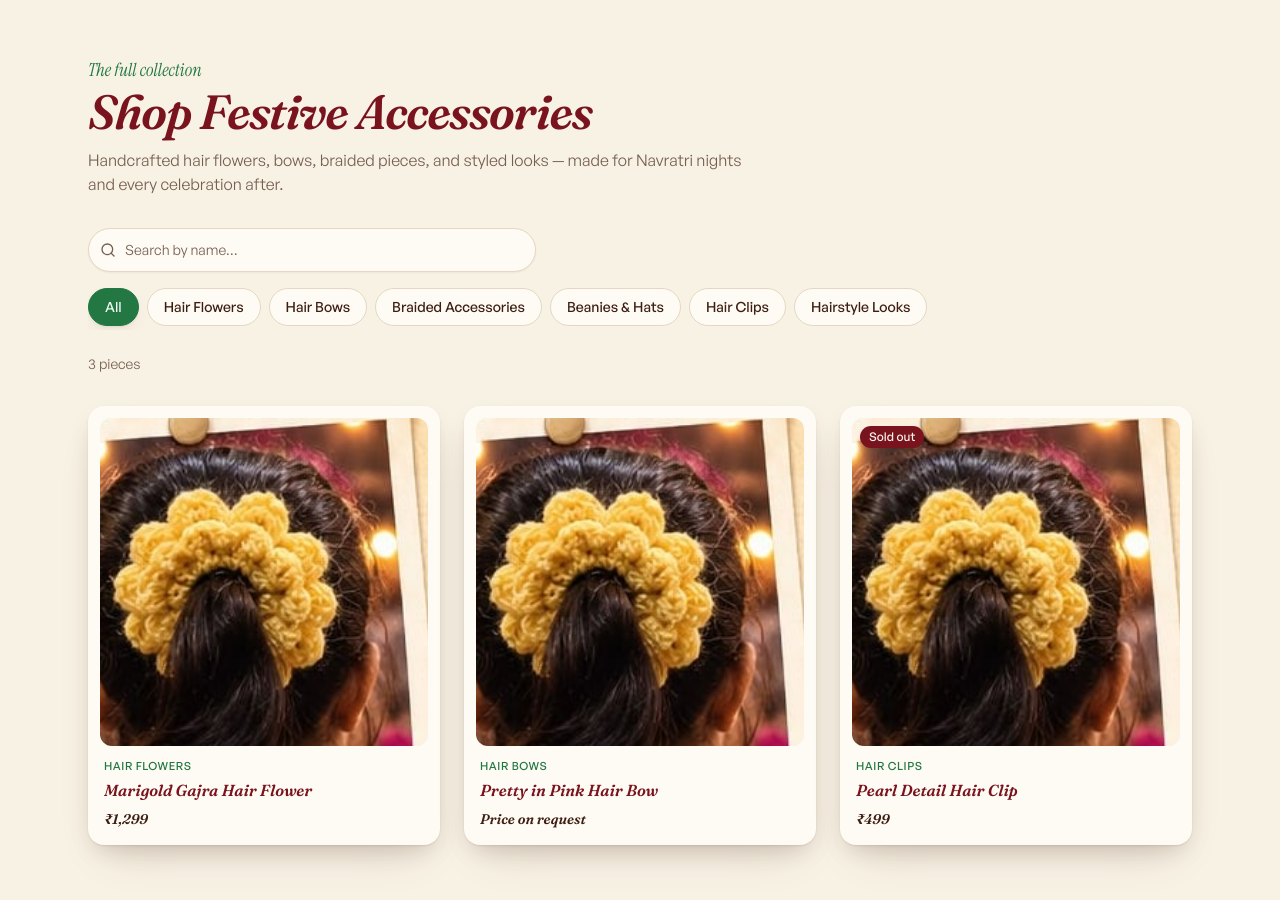
Scenario: ShopPage › filters the grid by search term and writes it to the URL
Check: the heading "Marigold Gajra Hair Flower" is shown, box [104,780,312,800]
Type "pearl" into the search field named "Search products by name".
click(312, 250); type("pearl")  # box [88,228,536,272]
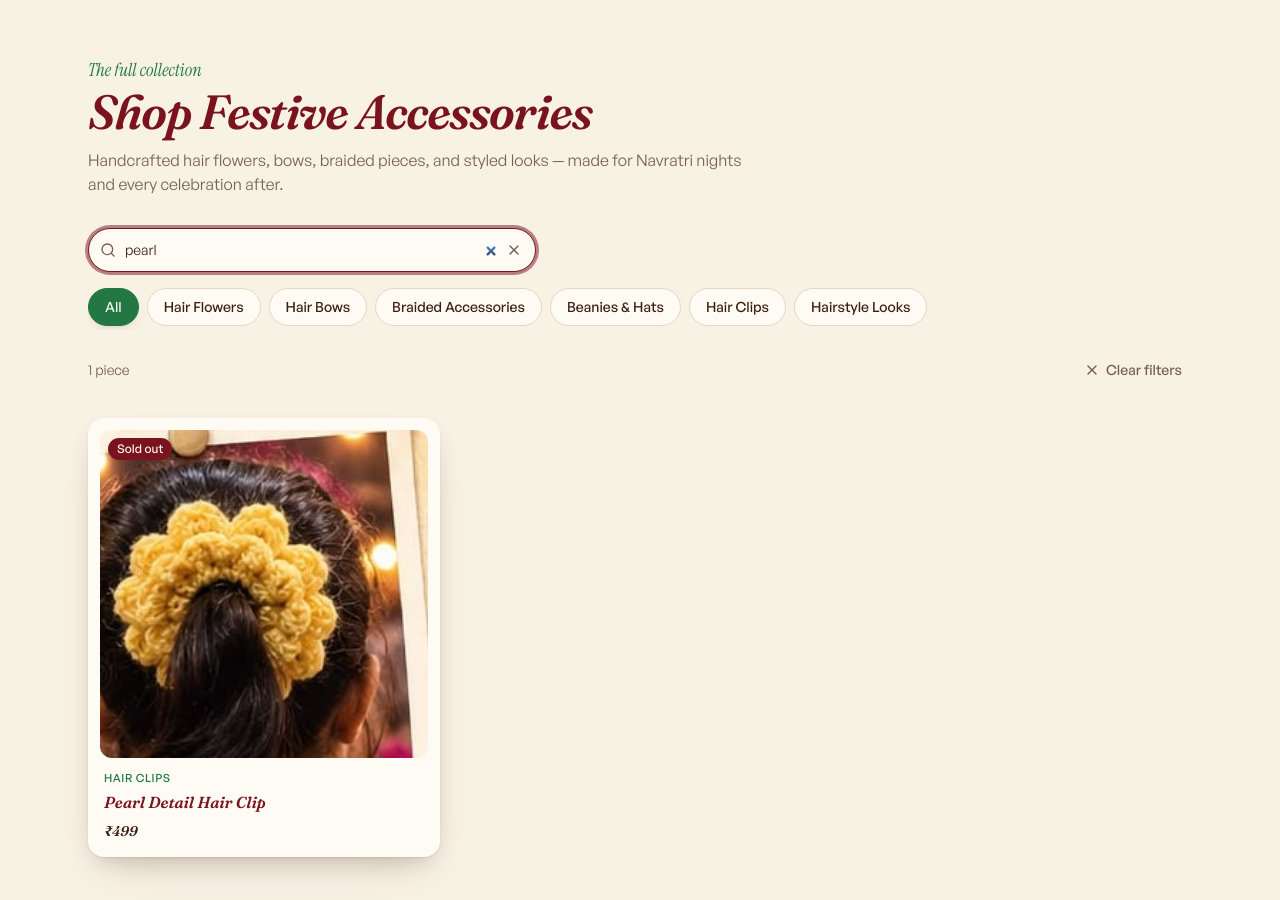
Check: the heading "Pearl Detail Hair Clip" is shown, box [104,792,266,812]
Check: the link "Marigold Gajra Hair Flower" is gone
